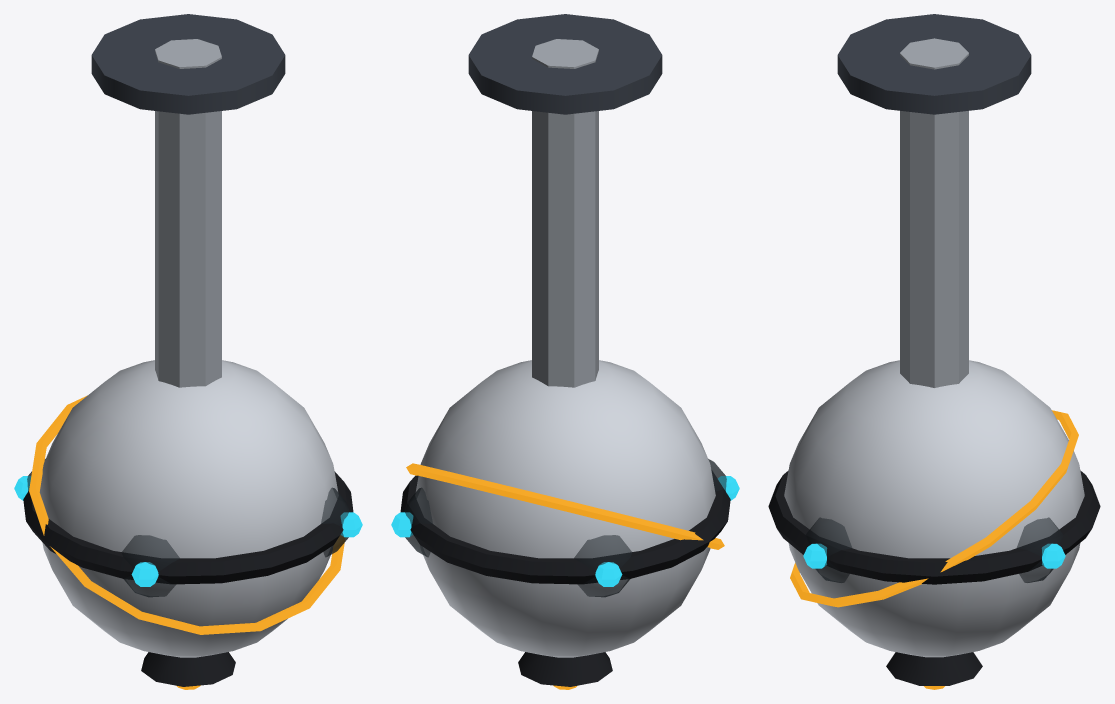
The model's file is camera_sentry_sensor_pod.glb.
3 views of the same model, side by side, from view 1: azimuth 30°, elevation 25°; view 2: azimuth 150°, elevation 25°; view 3: azimuth 270°, elevation 25° (orthographic).
Parts seen in each view (by area): view 1: camera_sentry_sensor_pod; view 2: camera_sentry_sensor_pod; view 3: camera_sentry_sensor_pod.
Boxes of the visible parts, x1=… form: camera_sentry_sensor_pod: x1=14, y1=14, x2=362, y2=689; camera_sentry_sensor_pod: x1=391, y1=14, x2=739, y2=689; camera_sentry_sensor_pod: x1=768, y1=14, x2=1100, y2=689.
Bounding box in the file's own units: 0.48 × 1.01 × 0.48.
